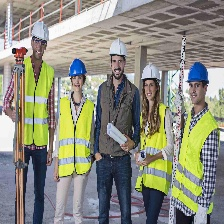helmet: (28, 19, 52, 46), (186, 63, 212, 87), (106, 37, 131, 61), (66, 57, 89, 81), (140, 62, 164, 85)
no-vest: (99, 79, 139, 165)
person: (15, 19, 53, 224), (97, 37, 131, 224), (184, 59, 218, 224), (139, 59, 171, 224), (59, 54, 90, 224)
vest: (181, 109, 222, 216), (16, 59, 53, 146), (141, 103, 175, 195), (57, 94, 94, 178)
